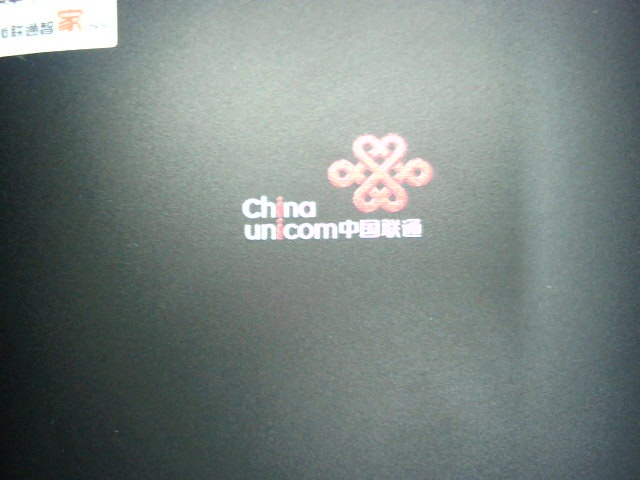AC_ChinaUnicom: (232, 126, 439, 246)
